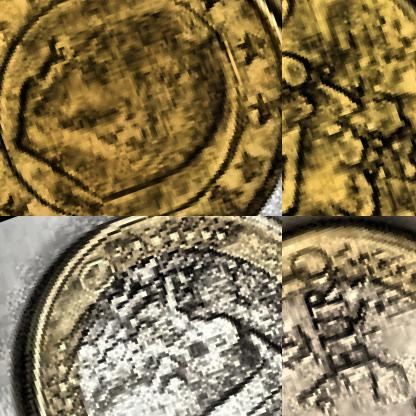coin: (0, 0, 281, 215), (0, 216, 281, 415), (282, 0, 415, 215), (282, 216, 415, 415)
